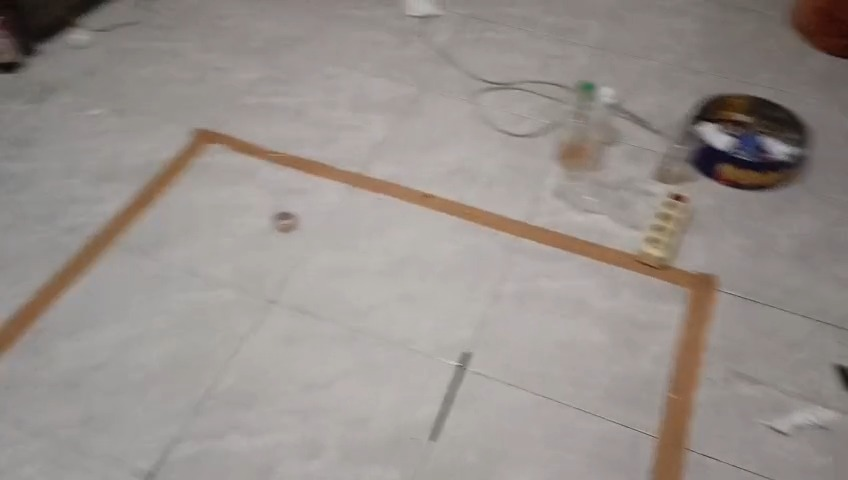floor marking: (0, 129, 718, 479)
